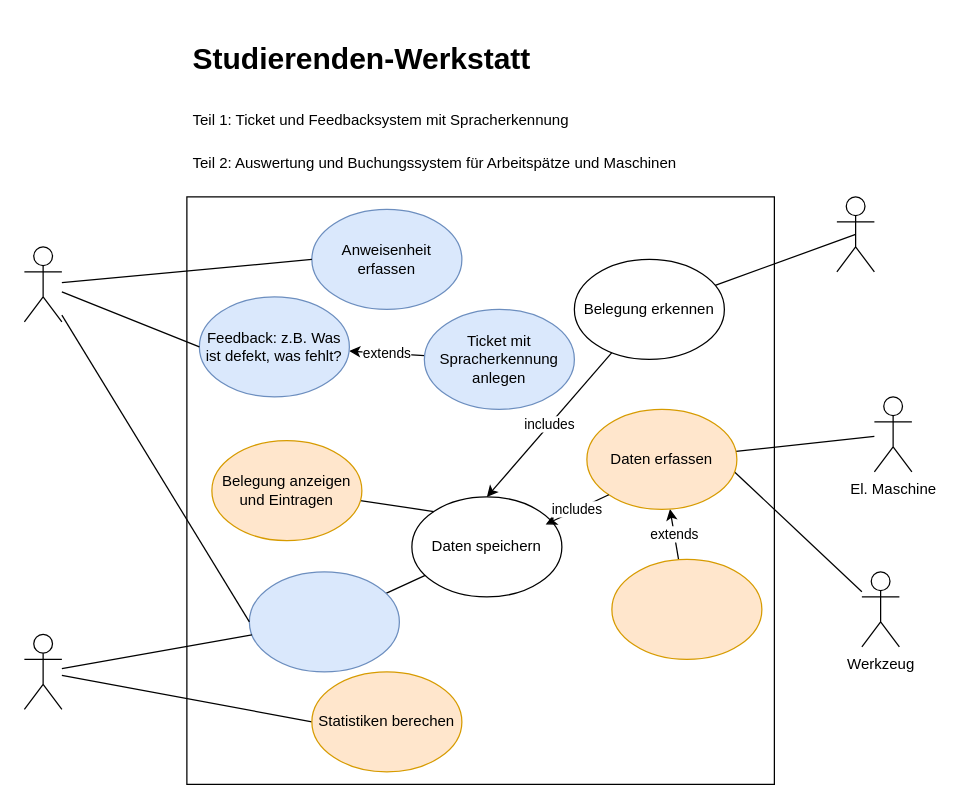
The diagram is 958 pixels wide and 806 high, and some of its shapes have lost their labels. The shapes that lost their labels are listed below. From the top down, each one's centre as x and y in pixels, then its label:
At point (855, 234): "Arbeitsplatz".
At point (42, 284): "Nutzer".
At point (323, 621): "Ticketstatus anzeigen".
At point (686, 608): "Benutzung erkennen".
At point (42, 671): "Admin".
